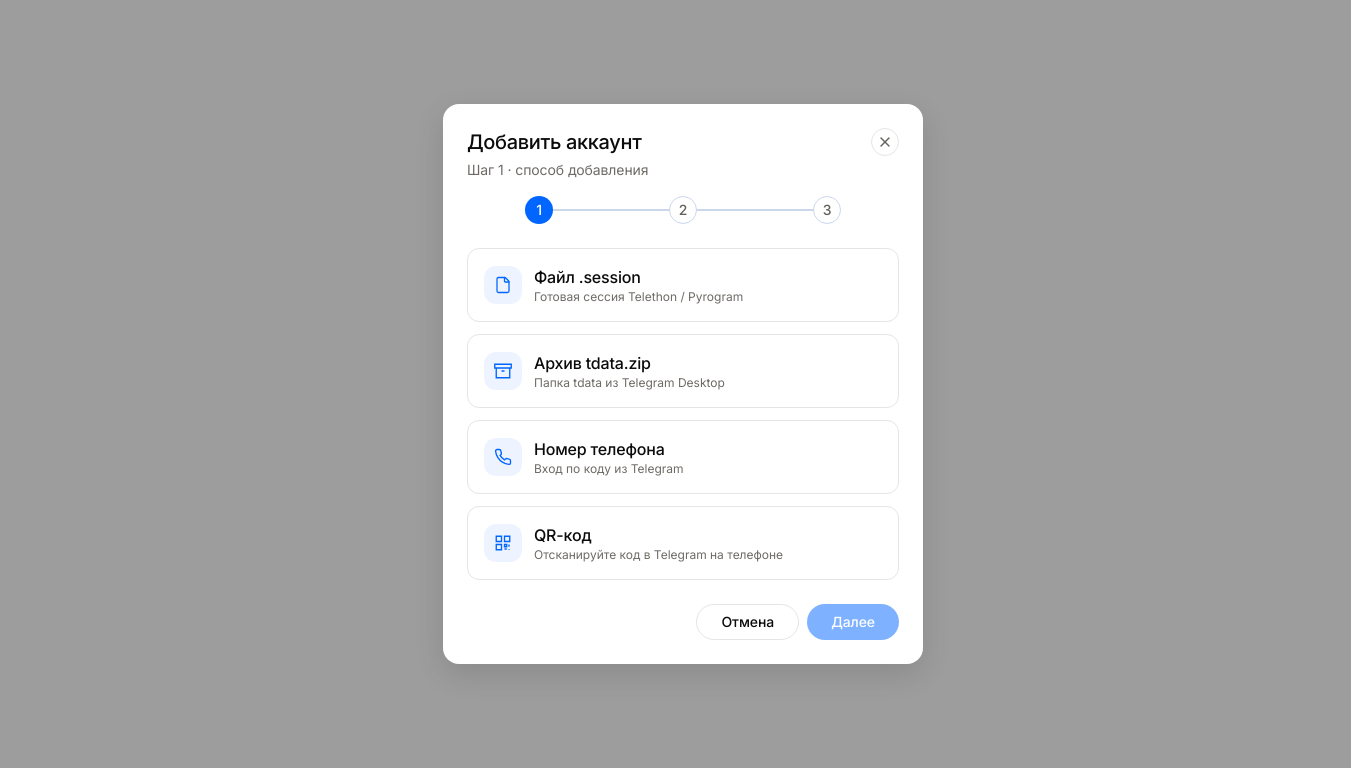
the option is off until the operator turns it on
Click the text "Файл .session" at (587, 277), box [534,267,641,287]
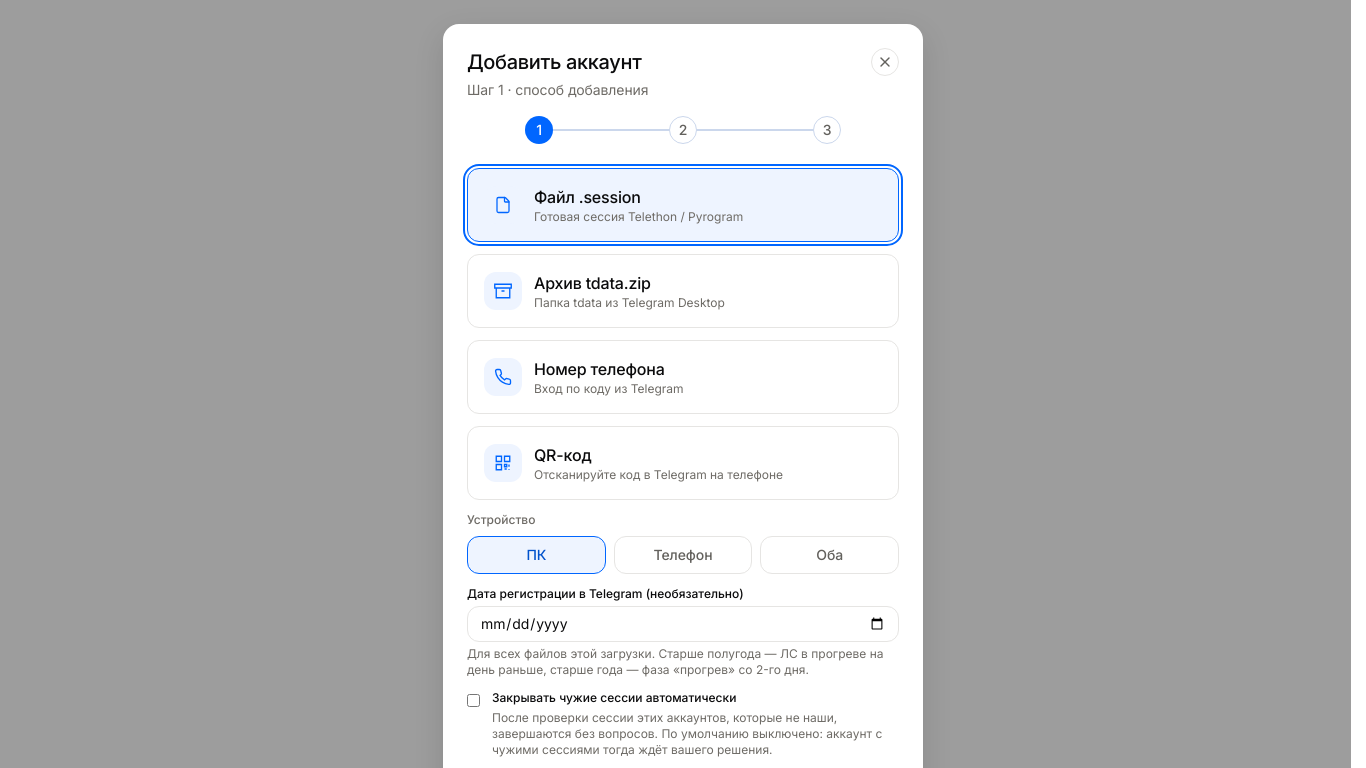
Expected: the checkbox labelled "Закрывать чужие сессии автоматически" is not checked, [467,694,480,707]
